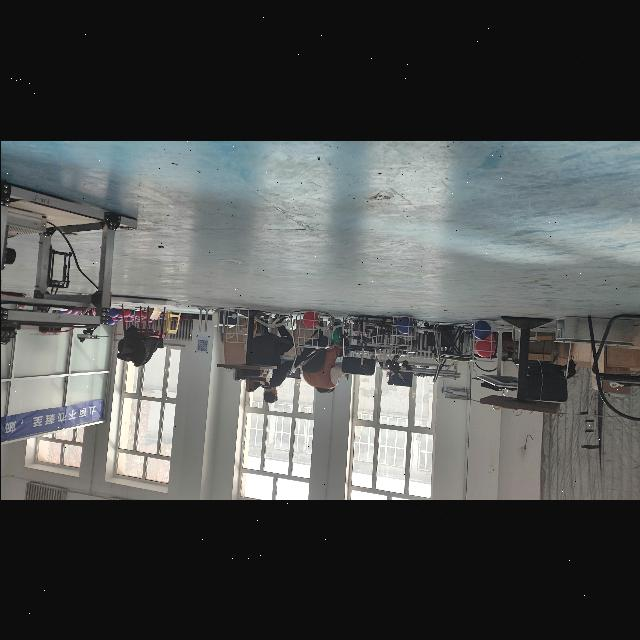B: (469, 320, 491, 338), (394, 316, 414, 334)
R: (475, 339, 495, 357), (302, 310, 318, 328)
S: (467, 316, 498, 364), (386, 314, 418, 358), (222, 304, 252, 344), (294, 307, 322, 349)
